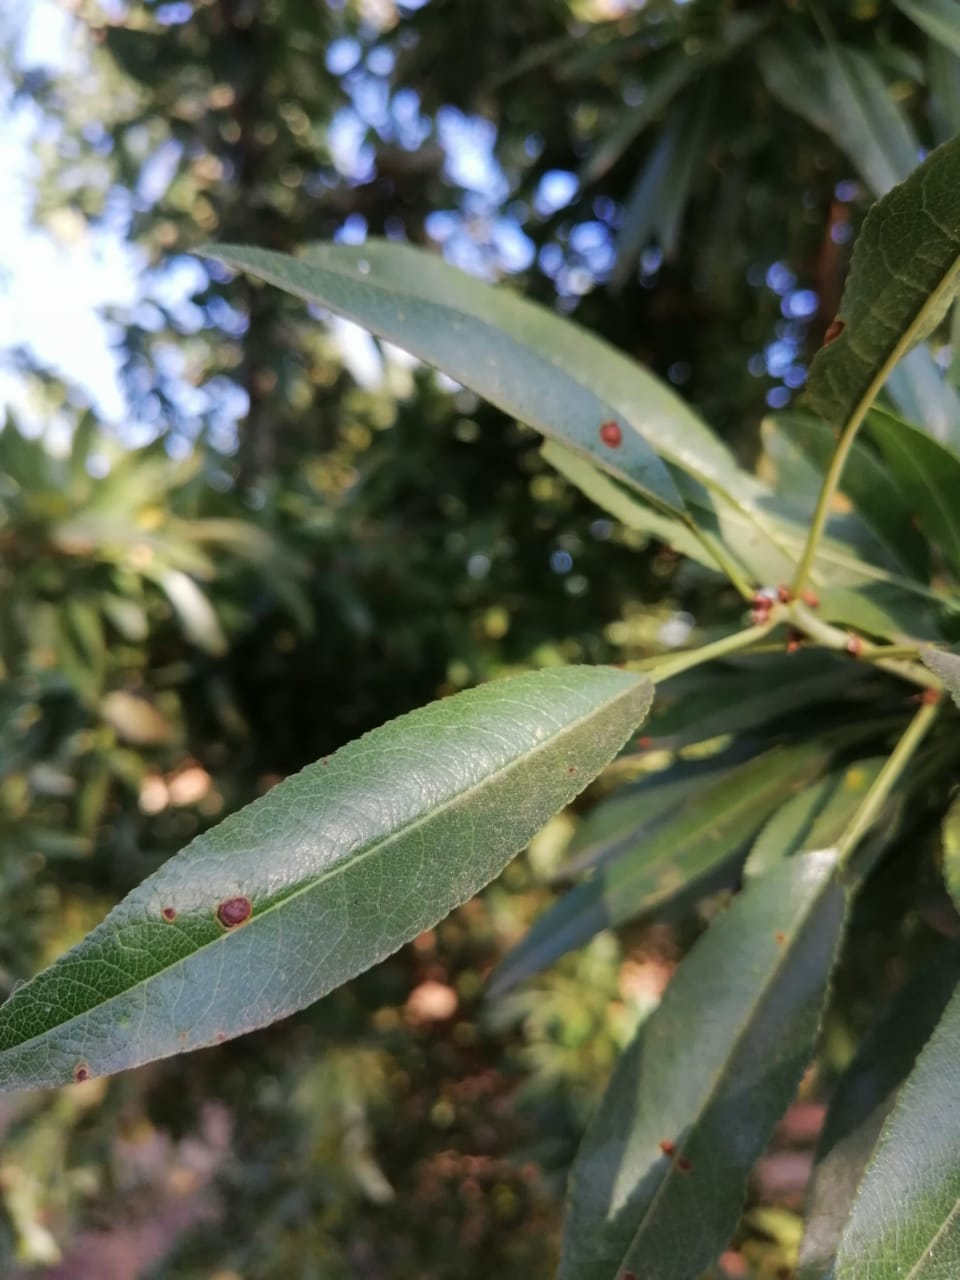coryneum: (1, 661, 655, 1089), (191, 244, 694, 519)
